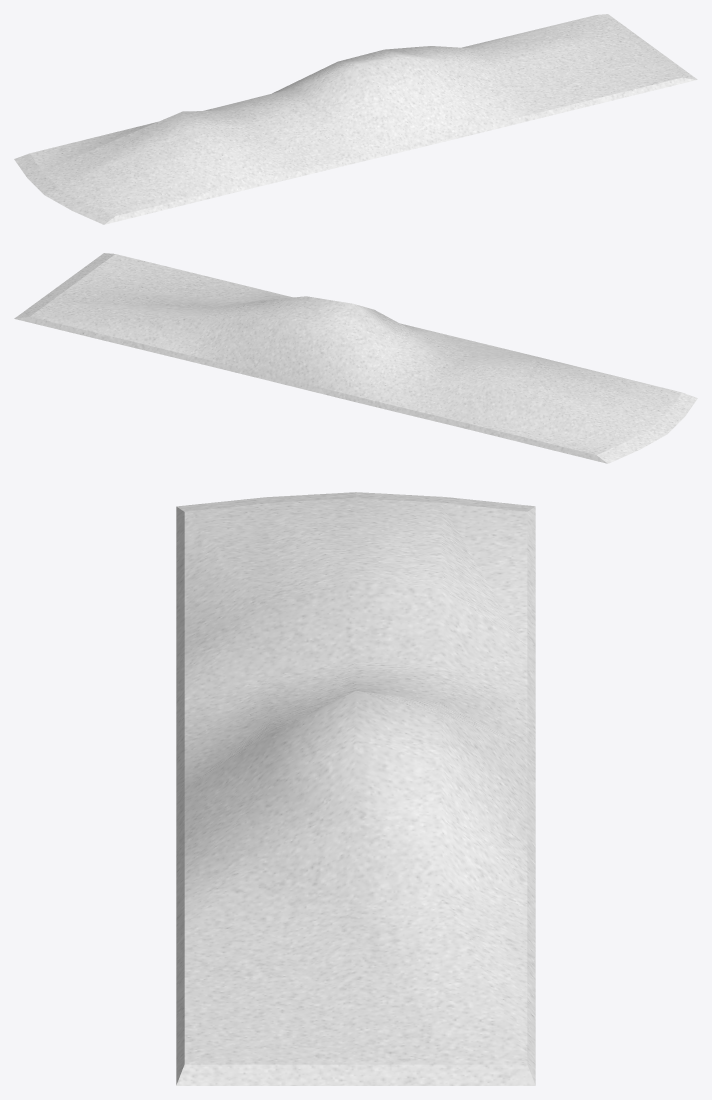
File: SaltMound.FBX
The picture shows the model from 3 angles, top to bottom: view 1: azimuth 30°, elevation 25°; view 2: azimuth 150°, elevation 25°; view 3: azimuth 270°, elevation 25°; orthographic projection. The views are drawn at different scales.
Parts seen in each view (by area): view 1: Object013; view 2: Object013; view 3: Object013.
Part boxes in pixels (bbox=[...]): Object013: bbox=[14, 14, 697, 224]; Object013: bbox=[14, 253, 697, 463]; Object013: bbox=[176, 492, 535, 1085].
Size of the model in its own units: 313 by 26.65 by 80.02.
